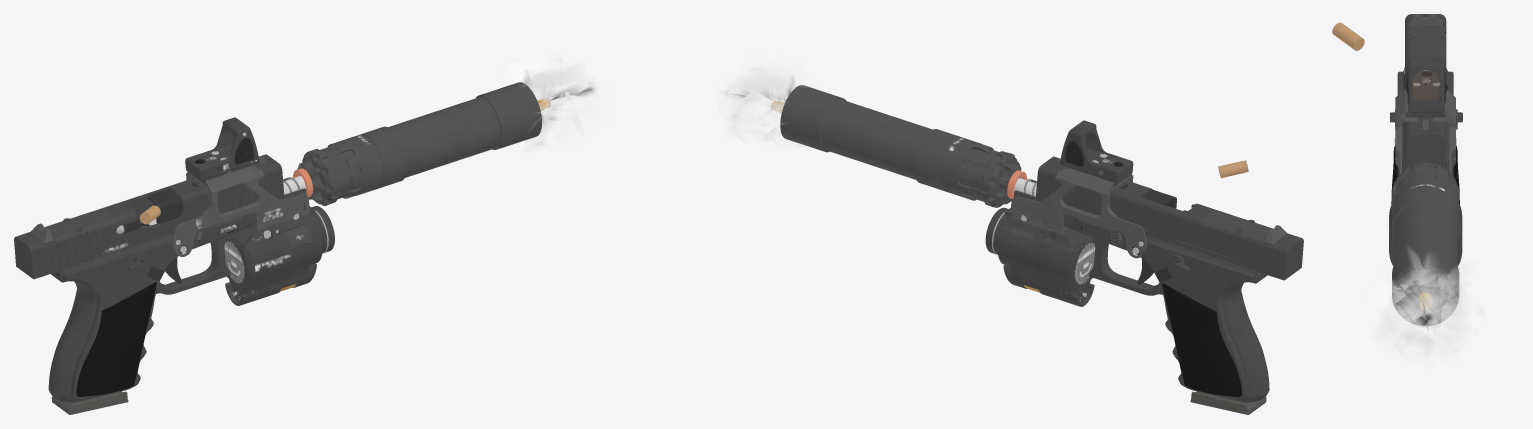
Rendered from 12-models-pistol-blend-baked-2048-9d7fc2423420.glb.
3 renders of one model, left to right at view 1: azimuth 30°, elevation 25°; view 2: azimuth 150°, elevation 25°; view 3: azimuth 270°, elevation 25°, orthographic. The views are drawn at different scales.
Visible parts, largest first — view 1: Pistol with realized muzzle fire and smoke; view 2: Pistol with realized muzzle fire and smoke; view 3: Pistol with realized muzzle fire and smoke.
Part boxes in pixels (x1,y1,x2,y2): Pistol with realized muzzle fire and smoke: (14,56,605,414); Pistol with realized muzzle fire and smoke: (719,60,1303,414); Pistol with realized muzzle fire and smoke: (1332,14,1480,362).
Bounding box in the file's own units: 12.95 × 5.24 × 2.9.
Materials: 41 (41 with a texture image).
